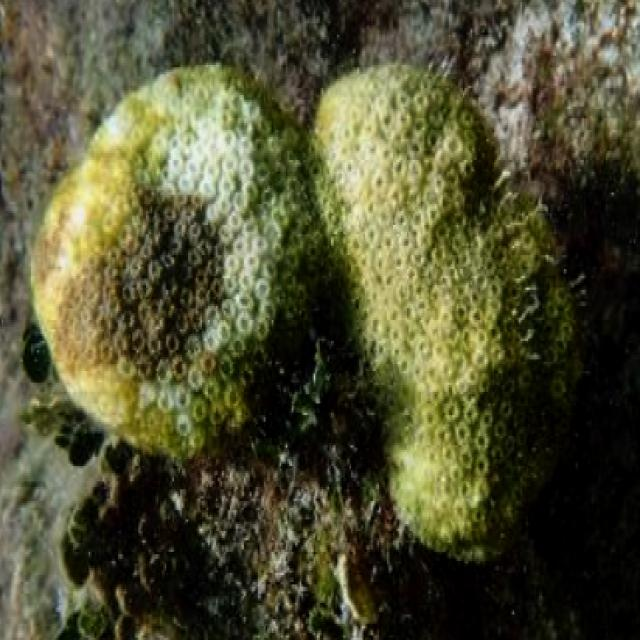Coral: (308, 62, 582, 563), (29, 62, 314, 460)
